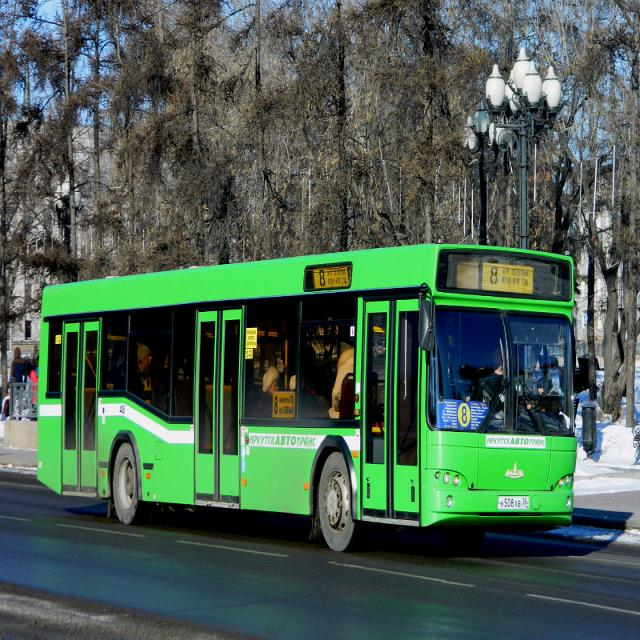number-of-bus: (489, 263, 502, 289), (460, 403, 471, 429), (319, 269, 328, 289), (274, 394, 280, 416)
